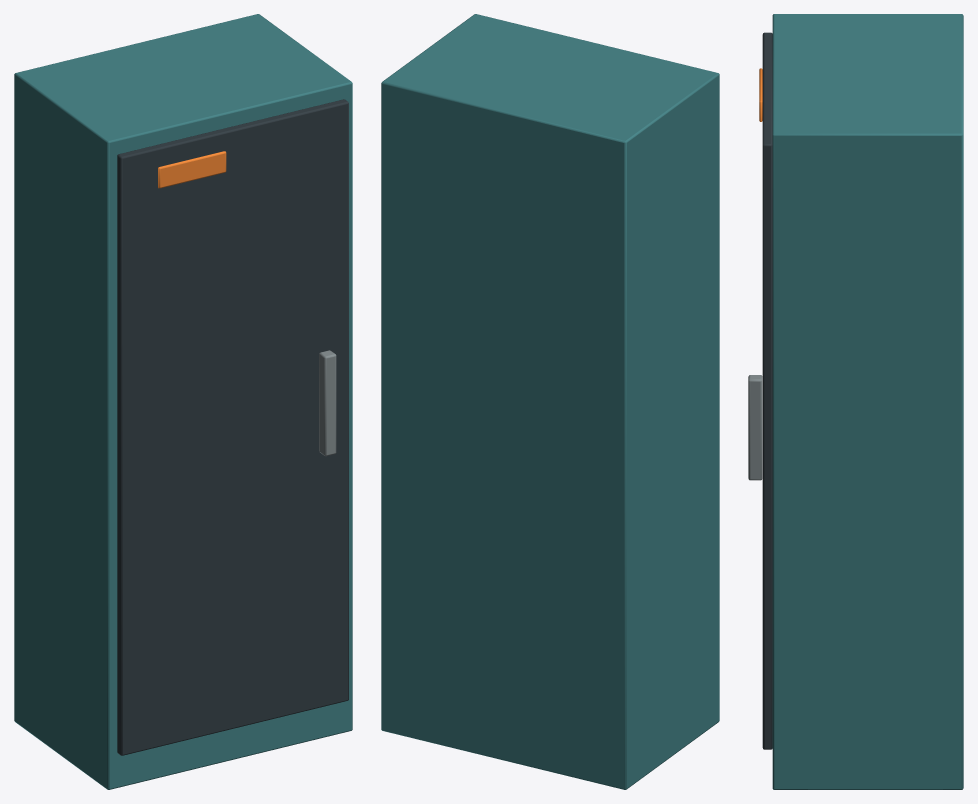
Rendered from nord01-security_locker-lod2.glb.
3 renders of one model, left to right at view 1: azimuth 30°, elevation 25°; view 2: azimuth 150°, elevation 25°; view 3: azimuth 270°, elevation 25°, orthographic.
Visible parts, largest first — view 1: static; view 2: static; view 3: static.
Part boxes in pixels (<box>): static: <box>14,14,352,789</box>; static: <box>381,14,719,789</box>; static: <box>748,14,963,789</box>.
Bounding box in the file's own units: 0.72 × 1.82 × 0.5405.
